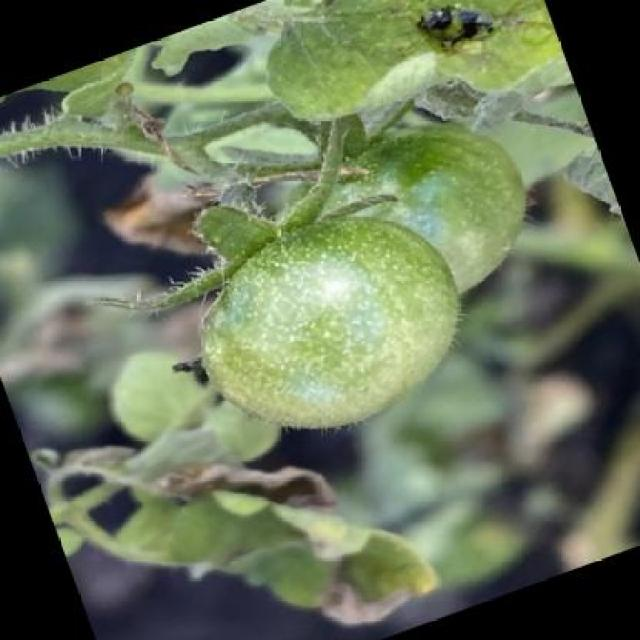unripe tomato: (172, 181, 486, 465), (272, 92, 556, 339)
